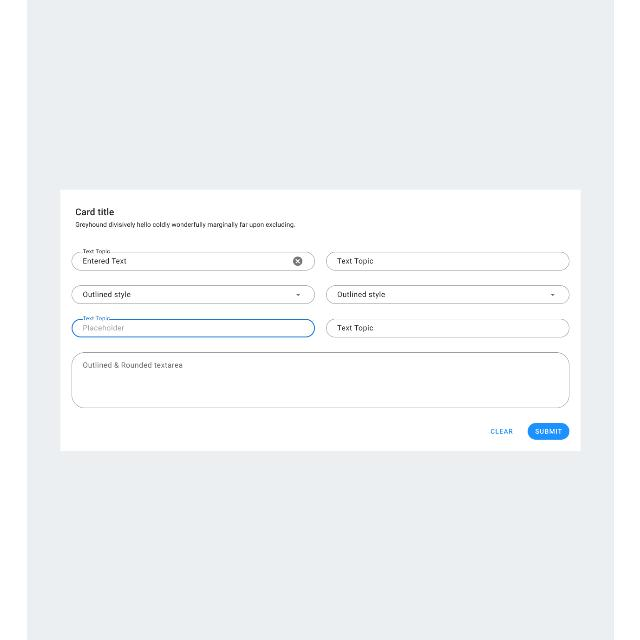QLabel: (72, 220, 296, 230), (72, 207, 116, 217), (534, 428, 562, 434), (490, 429, 512, 435)
VBtn: (527, 422, 569, 440)
VCard: (59, 189, 581, 451)
VCombobox: (70, 284, 314, 306), (325, 284, 569, 306)
VTextField: (70, 248, 314, 272), (70, 315, 314, 339), (326, 250, 568, 272), (326, 317, 568, 338)
VTextarea: (70, 351, 570, 409)
